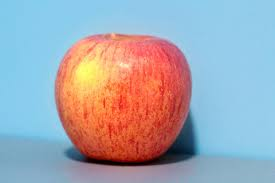apple: (53, 32, 193, 164)
